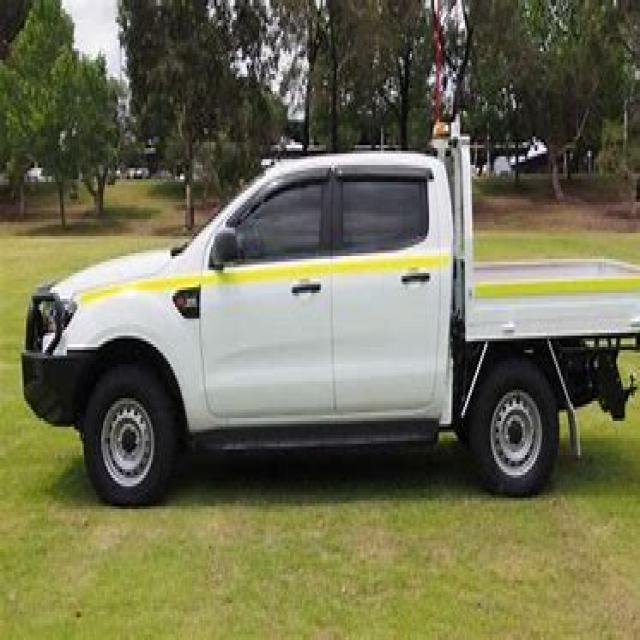light_vehicle: (17, 148, 638, 509)
